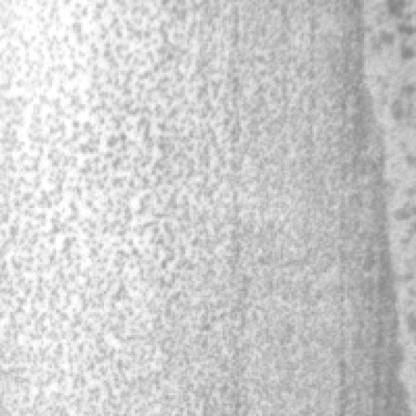pitted_surface: (2, 0, 345, 414)
